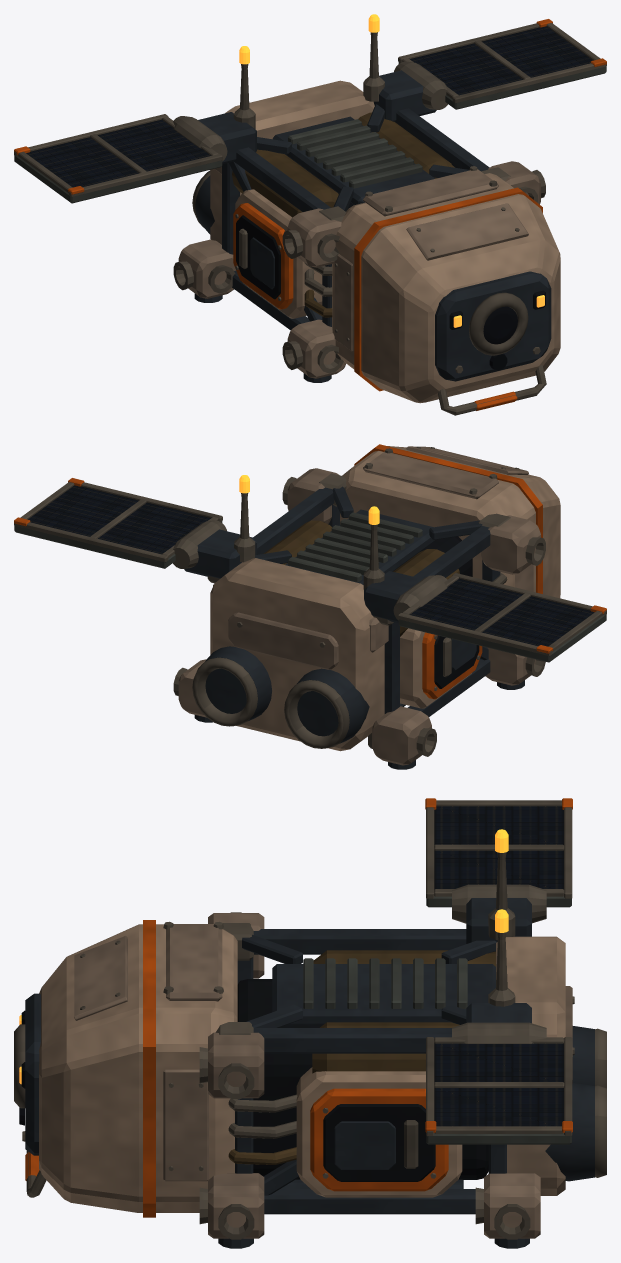
The model's file is base-drone.glb.
3 views of the same model, one above another, from view 1: azimuth 30°, elevation 25°; view 2: azimuth 150°, elevation 25°; view 3: azimuth 270°, elevation 25° (orthographic). The views are drawn at different scales.
Visible parts, largest first — view 1: Drone hardware trim 0, Drone photovoltaic coverglass 0; view 2: Drone hardware trim 0, Drone photovoltaic coverglass 0; view 3: Drone hardware trim 0, Drone photovoltaic coverglass 0, Amber drone beacon.
Part boxes in pixels (<box>): Drone hardware trim 0: <box>14,19,606,415</box>; Drone photovoltaic coverglass 0: <box>26,26,592,187</box>; Drone hardware trim 0: <box>14,444,606,769</box>; Drone photovoltaic coverglass 0: <box>28,485,594,646</box>; Drone hardware trim 0: <box>14,798,606,1248</box>; Drone photovoltaic coverglass 0: <box>434,806,563,1126</box>; Amber drone beacon: <box>495,829,508,932</box>.
Bounding box in the file's own units: 5.96 × 2.6 × 4.51.
Materials: 4 (2 with a texture image).
